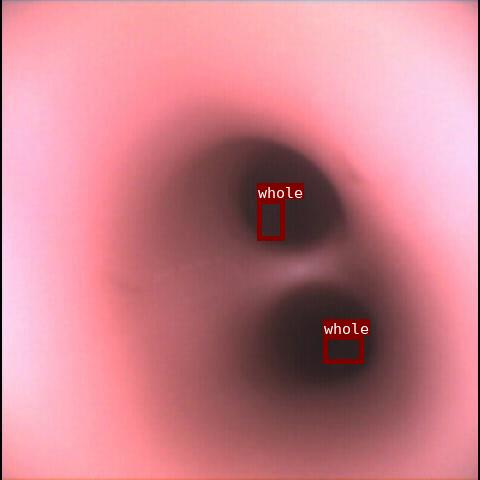whole: (323, 335, 363, 363), (257, 199, 284, 240)
